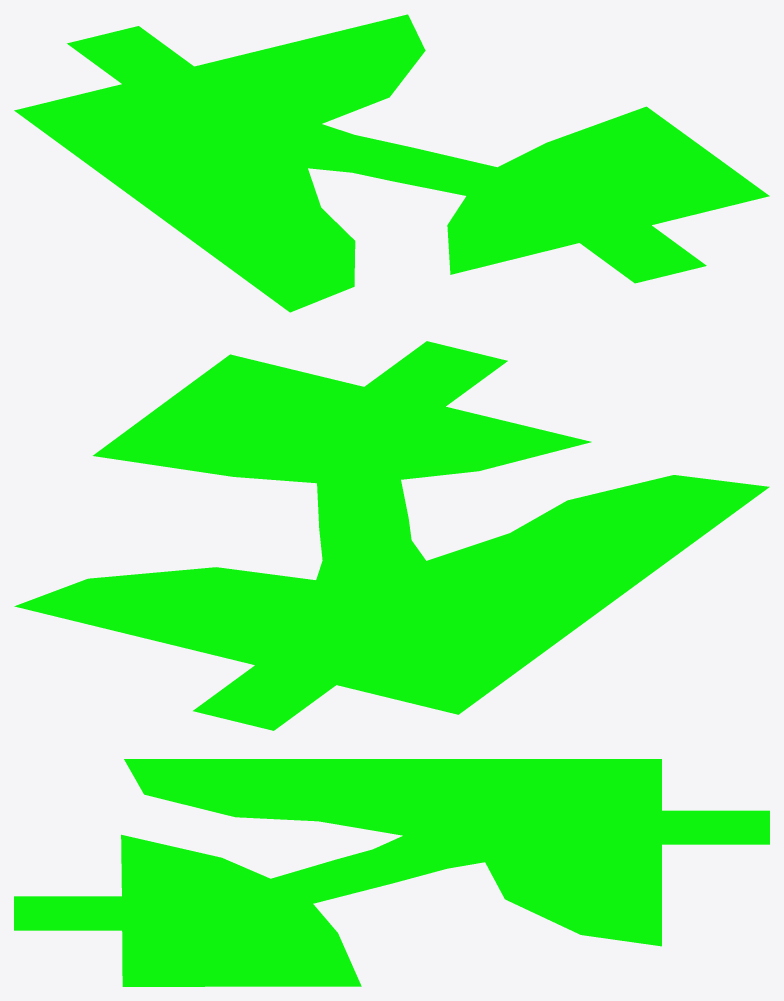
File: s04a_ic3-floor.glb
3 renders of one model, top to bottom at view 1: azimuth 30°, elevation 25°; view 2: azimuth 150°, elevation 25°; view 3: azimuth 270°, elevation 25°, orthographic. The views are drawn at different scales.
Visible parts, largest first — view 1: collision_floor-colonly; view 2: collision_floor-colonly; view 3: collision_floor-colonly.
Boxes of the visible parts, x1=… form: collision_floor-colonly: x1=14, y1=14, x2=769, y2=312; collision_floor-colonly: x1=14, y1=341, x2=769, y2=730; collision_floor-colonly: x1=14, y1=759, x2=769, y2=986.
Size of the model in its own units: 39.87 by 0.00781 by 55.92.
